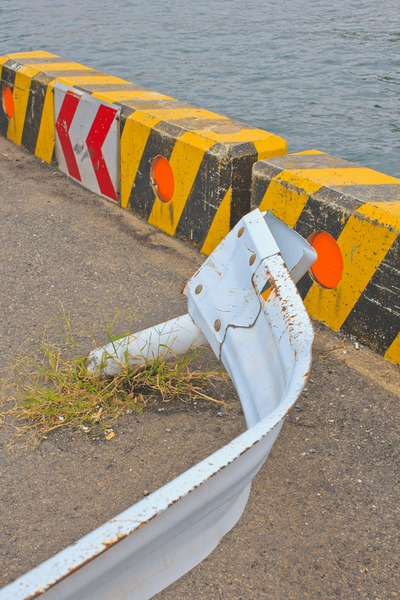damaged: (139, 209, 330, 357)
